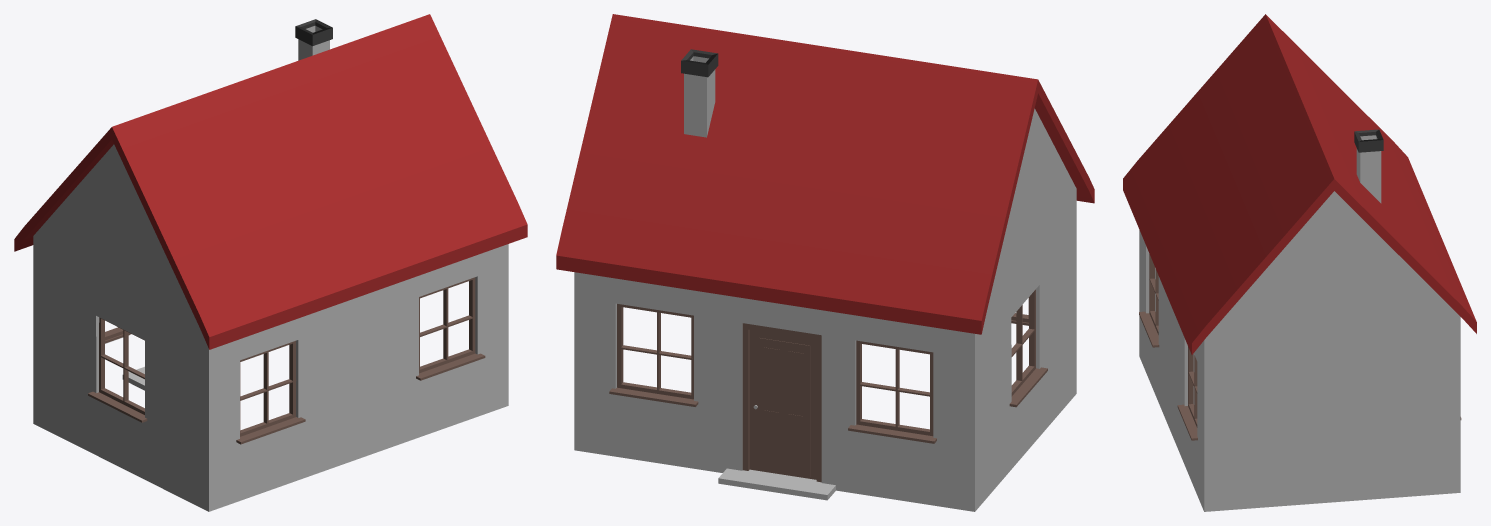
Rendered from House.glb.
3 renders of one model, left to right at view 1: azimuth 30°, elevation 25°; view 2: azimuth 150°, elevation 25°; view 3: azimuth 270°, elevation 25°, orthographic. The views are drawn at different scales.
Visible parts, largest first — view 1: Box001, Box004, Box003; view 2: Box001, Box004, Box003; view 3: Box001, Box004, Box003.
Part boxes in pixels (x1,y1,x2,y2): Box001: [14, 14, 527, 511]; Box004: [88, 277, 485, 444]; Box003: [295, 19, 332, 46]; Box001: [556, 14, 1094, 511]; Box004: [609, 289, 1047, 482]; Box003: [681, 49, 718, 77]; Box001: [1123, 14, 1476, 511]; Box004: [1139, 254, 1461, 440]; Box003: [1354, 129, 1383, 152].
Bounding box in the file's own units: 117 × 97.47 × 94.03.
